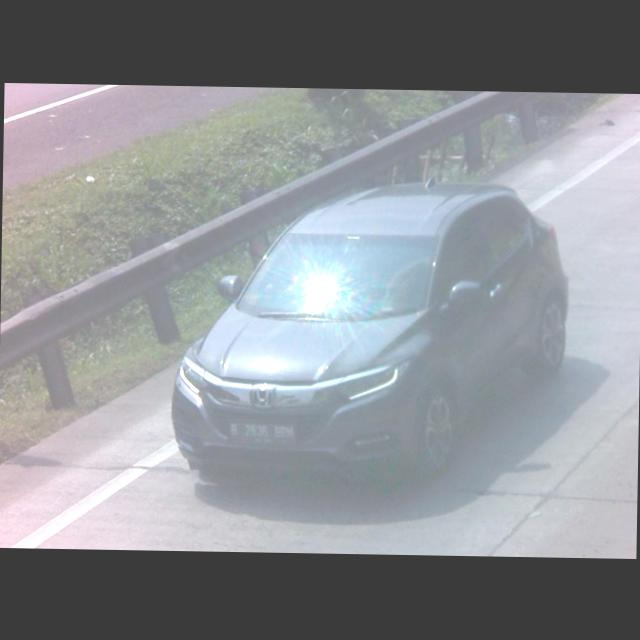plate: (228, 420, 294, 448)
